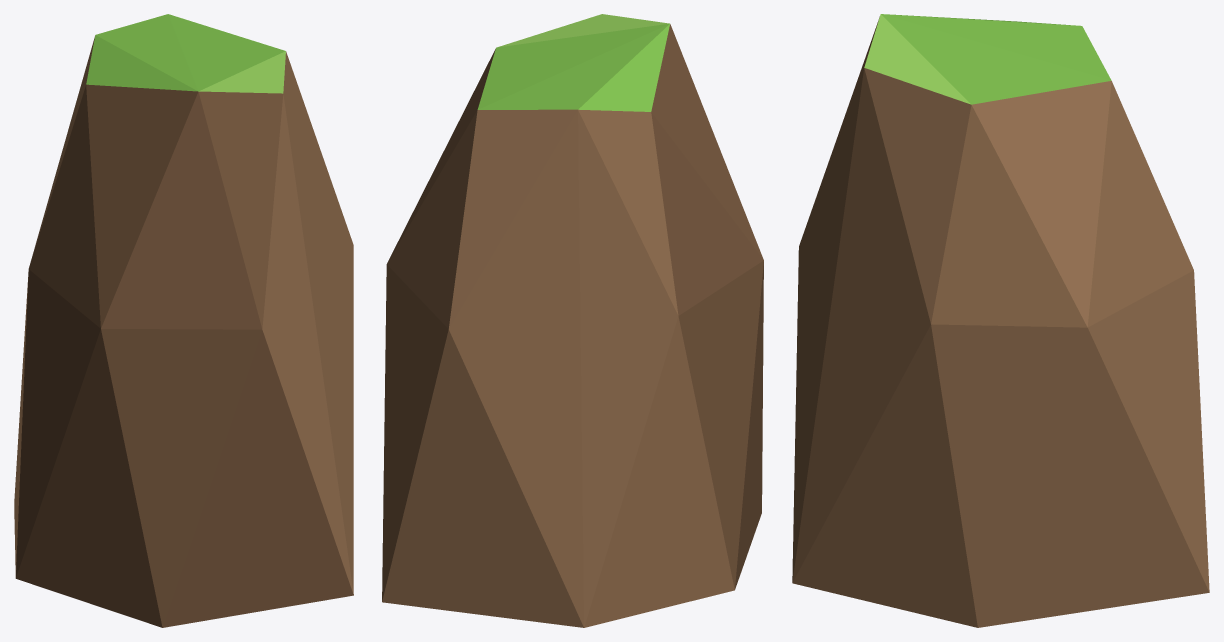
File: rock_tallF.glb
3 views of the same model, side by side, from view 1: azimuth 30°, elevation 25°; view 2: azimuth 150°, elevation 25°; view 3: azimuth 270°, elevation 25° (orthographic). The views are drawn at different scales.
Visible parts, largest first — view 1: rock_tallF; view 2: rock_tallF; view 3: rock_tallF.
Part boxes in pixels (box(x1,y1,x2,y2)): rock_tallF: box(14, 14, 353, 627); rock_tallF: box(382, 14, 763, 627); rock_tallF: box(792, 14, 1209, 627).
Size of the model in its own units: 0.3745 by 0.5498 by 0.4052.
Materials: 1 (1 with a texture image).
